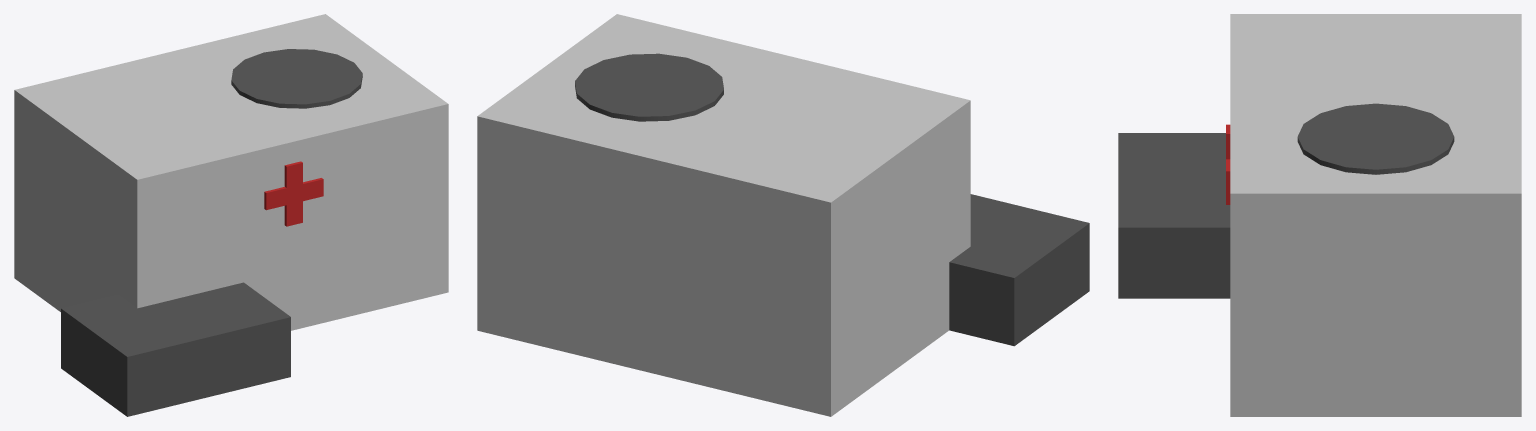
Rendered from hospital_01.glb.
3 views of the same model, side by side, from view 1: azimuth 30°, elevation 25°; view 2: azimuth 150°, elevation 25°; view 3: azimuth 270°, elevation 25° (orthographic). The views are drawn at different scales.
Size of the model in its own units: 45 by 22.5 by 36.
